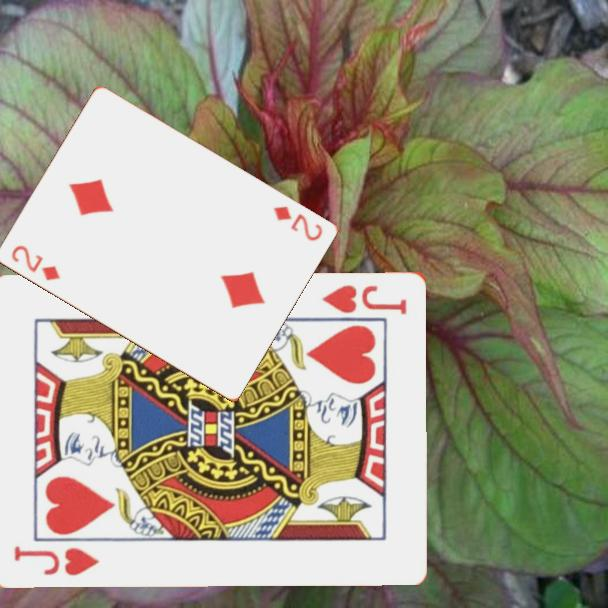d02: (7, 242, 63, 284), (270, 203, 325, 244)
h11: (11, 542, 103, 578), (319, 281, 410, 317)
